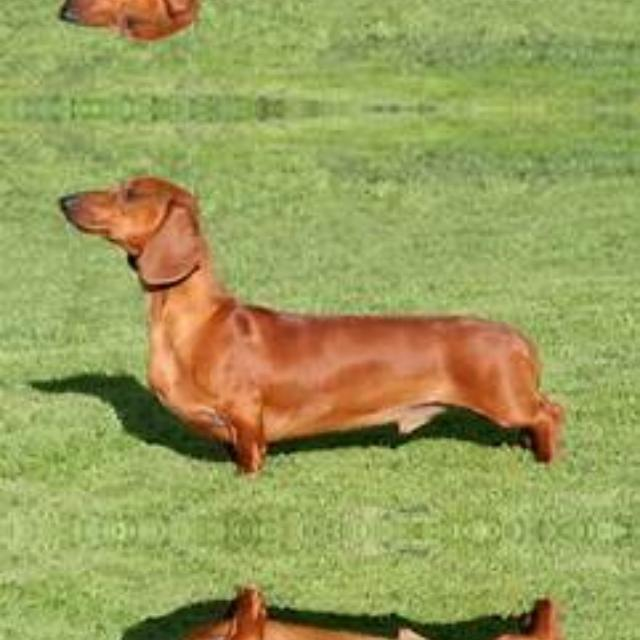dog: (58, 169, 590, 513), (58, 548, 590, 640), (58, 0, 590, 47)
